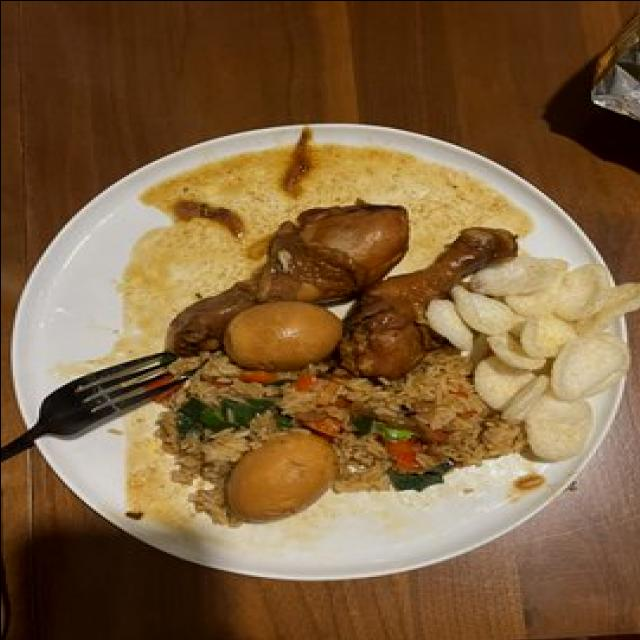ayam goreng: (164, 203, 410, 357), (334, 231, 495, 384)
